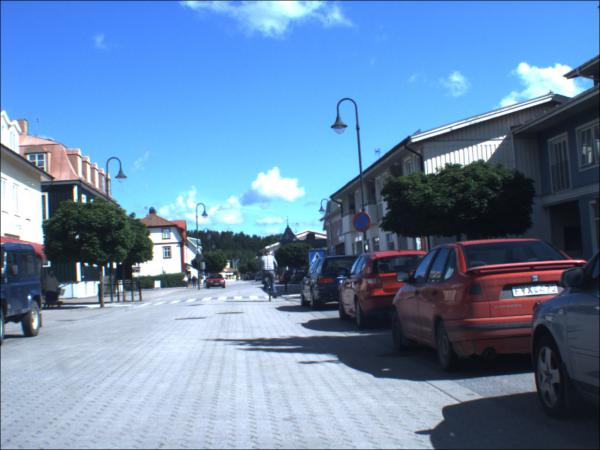NO_PARKING: (352, 212, 375, 234)
PEDESTRIAN_CROSSING: (311, 252, 331, 271)
